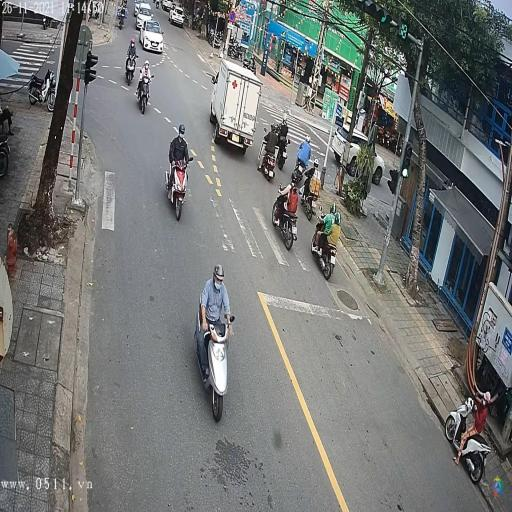car: (140, 21, 166, 53), (135, 4, 152, 18)
motorcycle: (193, 290, 236, 426), (167, 140, 193, 226), (136, 66, 154, 120), (122, 44, 138, 89)
